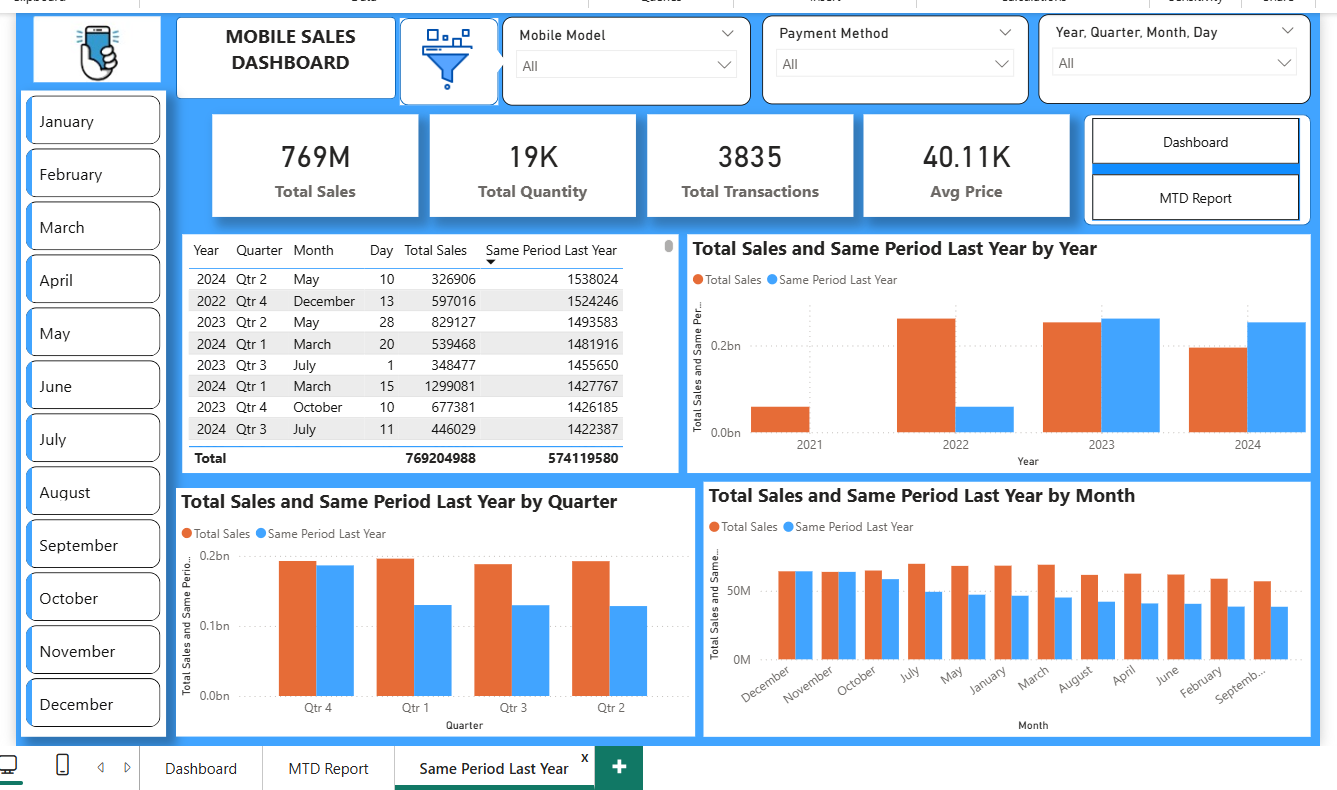

This screenshot's page, from the dashboard's own definition file:
{"tool":"powerbi","page":{"name":"Same Period Last Year","canvas":[1280,720],"ordinal":2},"visuals":[{"type":"image","box":[17.2,0,125.2,71.2],"z":0},{"type":"card","fields":{"Values":["Mobile_Sales_Data.Total Sales"]},"box":[192.6,99.4,202.5,100.6],"z":1000},{"type":"card","fields":{"Values":["Mobile_Sales_Data.Total Quantity"]},"box":[406.1,99.4,202.5,100.6],"z":2000},{"type":"card","fields":{"Values":["Mobile_Sales_Data.Total Transactions"]},"box":[619.6,99.4,202.5,100.6],"z":3000},{"type":"card","fields":{"Values":["Mobile_Sales_Data.Avg Price"]},"box":[831.9,99.4,202.5,100.6],"z":4000},{"type":"slicer","fields":{"Values":["Mobile_Sales_Data.Mobile Model"]},"box":[477.3,3.7,244.2,87.1],"z":5000},{"type":"slicer","fields":{"Values":["Mobile_Sales_Data.Payment Method"]},"box":[732.5,2.5,261.4,87.1],"z":6000},{"type":"slicer","fields":{"Values":["Custom_Calender.Date.Variation.Date Hierarchy.Year","Custom_Calender.Date.Variation.Date Hierarchy.Quarter","Custom_Calender.Date.Variation.Date Hierarchy.Month","Custom_Calender.Date.Variation.Date Hierarchy.Day"]},"box":[1003.7,1.2,267.5,88.3],"z":7000},{"type":"shape","box":[376.7,4.9,96.9,85.9],"z":8000},{"type":"image","box":[373,14.7,100.6,61.4],"z":9000},{"type":"shape","box":[444.2,23.3,36.8,47.9],"z":10000},{"type":"shape","box":[157.1,3.7,216,81],"z":11000},{"type":"textbox","box":[179.1,4.9,180.4,71.2],"z":12000},{"type":"advancedSlicerVisual","fields":{"Values":["Custom_Calender.Date.Variation.Date Hierarchy.Month"]},"box":[4.9,76.1,142.3,634.4],"z":13000},{"type":"tableEx","fields":{"Values":["Custom_Calender.Date.Variation.Date Hierarchy.Year","Custom_Calender.Date.Variation.Date Hierarchy.Quarter","Custom_Calender.Date.Variation.Date Hierarchy.Month","Custom_Calender.Date.Variation.Date Hierarchy.Day","Mobile_Sales_Data.Total Sales","Mobile_Sales_Data.Same Period Last Year"]},"box":[163.2,217.2,487.1,234.4],"z":14000},{"type":"clusteredColumnChart","fields":{"Category":["Custom_Calender.Date.Variation.Date Hierarchy.Year","Custom_Calender.Date.Variation.Date Hierarchy.Quarter","Custom_Calender.Date.Variation.Date Hierarchy.Month","Custom_Calender.Date.Variation.Date Hierarchy.Day"],"Y":["Mobile_Sales_Data.Total Sales","Mobile_Sales_Data.Same Period Last Year"]},"box":[658.9,217.2,612.3,234.4],"z":15000},{"type":"clusteredColumnChart","fields":{"Category":["Custom_Calender.Date.Variation.Date Hierarchy.Year","Custom_Calender.Date.Variation.Date Hierarchy.Quarter","Custom_Calender.Date.Variation.Date Hierarchy.Month","Custom_Calender.Date.Variation.Date Hierarchy.Day"],"Y":["Mobile_Sales_Data.Total Sales","Mobile_Sales_Data.Same Period Last Year"]},"box":[674.9,460.1,596.3,250.3],"z":16000},{"type":"clusteredColumnChart","fields":{"Category":["Custom_Calender.Date.Variation.Date Hierarchy.Year","Custom_Calender.Date.Variation.Date Hierarchy.Quarter","Custom_Calender.Date.Variation.Date Hierarchy.Month","Custom_Calender.Date.Variation.Date Hierarchy.Day"],"Y":["Mobile_Sales_Data.Total Sales","Mobile_Sales_Data.Same Period Last Year"]},"box":[157.1,466.3,509.2,244.2],"z":17000},{"type":"shape","box":[1047.9,99.4,223.3,109.2],"z":17001},{"type":"pageNavigator","box":[1056.4,103.1,203.7,100.6],"z":17002}]}

Visuals, with their boxes on the page's 1280x720 design canvas (x1, y1, x2, y2). These are canvas units, not pixel positions in the 1337x790 screenshot, which may show the page scaled, cropped or inside an application window:
image: 17,0,142,71
card - Mobile_Sales_Data.Total Sales: 193,99,395,200
card - Mobile_Sales_Data.Total Quantity: 406,99,609,200
card - Mobile_Sales_Data.Total Transactions: 620,99,822,200
card - Mobile_Sales_Data.Avg Price: 832,99,1034,200
slicer - Mobile_Sales_Data.Mobile Model: 477,4,722,91
slicer - Mobile_Sales_Data.Payment Method: 732,2,994,90
slicer - Custom_Calender.Date.Variation.Date Hierarchy.Year x Custom_Calender.Date.Variation.Date Hierarchy.Quarter: 1004,1,1271,90
shape: 377,5,474,91
image: 373,15,474,76
shape: 444,23,481,71
shape: 157,4,373,85
textbox: 179,5,360,76
advancedSlicerVisual - Custom_Calender.Date.Variation.Date Hierarchy.Month: 5,76,147,710
tableEx - Custom_Calender.Date.Variation.Date Hierarchy.Year x Custom_Calender.Date.Variation.Date Hierarchy.Quarter: 163,217,650,452
clusteredColumnChart - Custom_Calender.Date.Variation.Date Hierarchy.Year x Custom_Calender.Date.Variation.Date Hierarchy.Quarter: 659,217,1271,452
clusteredColumnChart - Custom_Calender.Date.Variation.Date Hierarchy.Year x Custom_Calender.Date.Variation.Date Hierarchy.Quarter: 675,460,1271,710
clusteredColumnChart - Custom_Calender.Date.Variation.Date Hierarchy.Year x Custom_Calender.Date.Variation.Date Hierarchy.Quarter: 157,466,666,710
shape: 1048,99,1271,209
pageNavigator: 1056,103,1260,204
